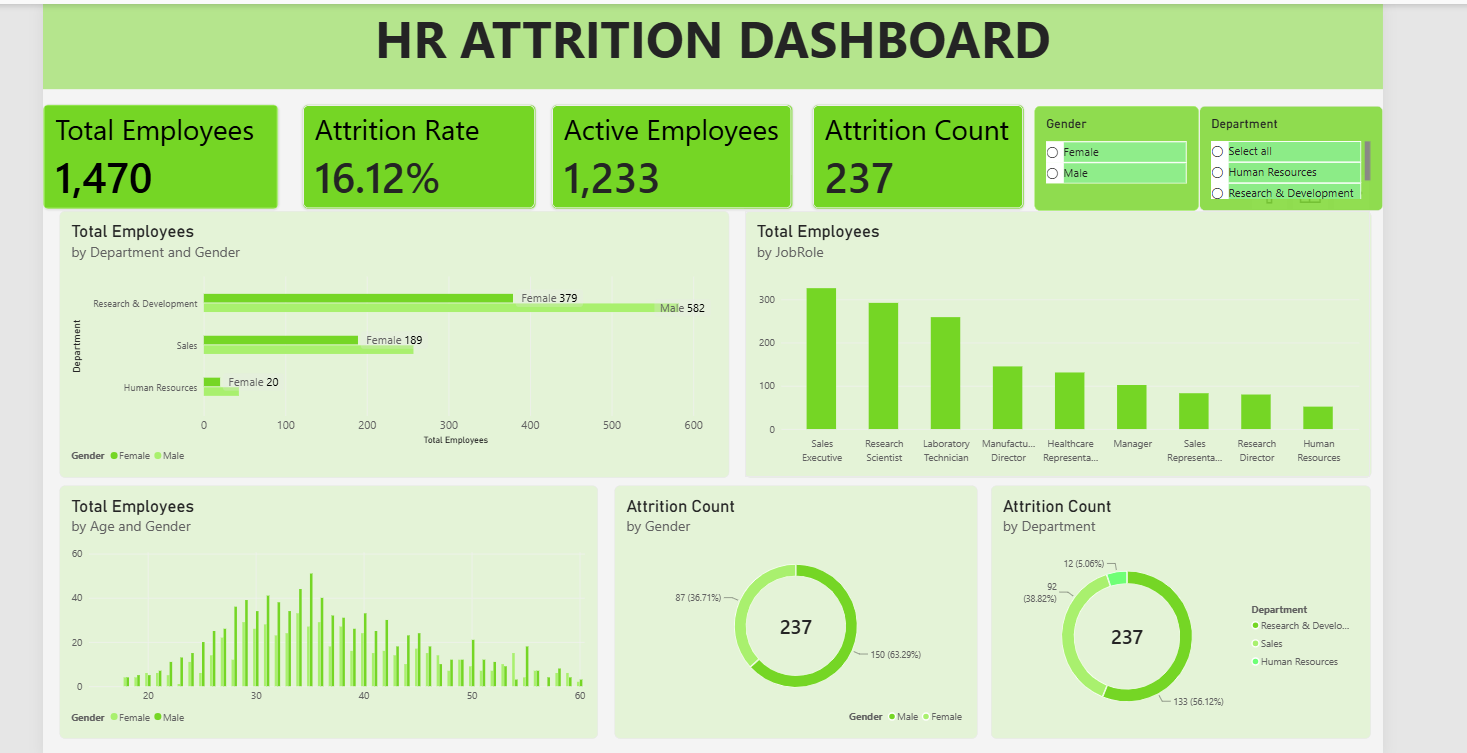

The dashboard page shown, as its layout file describes it:
{"tool":"powerbi","page":{"name":"Page 1","canvas":[1920,1080],"ordinal":0},"visuals":[{"type":"cardVisual","fields":{"Data":["WA_Fn-UseC_-HR-Employee-Attrition.Attrition Count"]},"box":[1102.7,144.6,303.3,150.2],"z":0},{"type":"cardVisual","fields":{"Data":["WA_Fn-UseC_-HR-Employee-Attrition.Attrition Rate"]},"box":[371.3,144.6,334.5,150.2],"z":1000},{"type":"cardVisual","fields":{"Data":["WA_Fn-UseC_-HR-Employee-Attrition.Active Employees"]},"box":[728.5,144.6,345.8,150.2],"z":2000},{"type":"cardVisual","fields":{"Data":["WA_Fn-UseC_-HR-Employee-Attrition.Total Employees"]},"box":[0,143.2,337.3,150.2],"z":3000},{"type":"textbox","box":[0,375.5,371,181],"z":4000},{"type":"textbox","box":[0,0,1919.1,121.9],"z":5000},{"type":"clusteredBarChart","fields":{"Category":["WA_Fn-UseC_-HR-Employee-Attrition.Department"],"Series":["WA_Fn-UseC_-HR-Employee-Attrition.Gender"],"Y":["WA_Fn-UseC_-HR-Employee-Attrition.Total Employees"]},"box":[23.9,295.9,959.1,381.7],"z":6000},{"type":"columnChart","fields":{"Category":["WA_Fn-UseC_-HR-Employee-Attrition.JobRole"],"Y":["WA_Fn-UseC_-HR-Employee-Attrition.Total Employees"]},"box":[1004.5,295.9,897.1,381.7],"z":7000},{"type":"clusteredColumnChart","fields":{"Category":["WA_Fn-UseC_-HR-Employee-Attrition.Age"],"Series":["WA_Fn-UseC_-HR-Employee-Attrition.Gender"],"Y":["WA_Fn-UseC_-HR-Employee-Attrition.Total Employees"]},"box":[22.7,688.8,771,362.8],"z":8000},{"type":"donutChart","fields":{"Category":["WA_Fn-UseC_-HR-Employee-Attrition.Gender"],"Y":["WA_Fn-UseC_-HR-Employee-Attrition.Attrition Count"]},"box":[818.4,689.5,520.1,362.7],"z":9000},{"type":"donutChart","fields":{"Category":["WA_Fn-UseC_-HR-Employee-Attrition.Department"],"Y":["WA_Fn-UseC_-HR-Employee-Attrition.Attrition Count"]},"box":[1357.8,688.8,544.3,362.8],"z":10000},{"type":"listSlicer","fields":{"Values":["WA_Fn-UseC_-HR-Employee-Attrition.Gender"]},"box":[1419.6,145.5,235.3,150.2],"z":10001},{"type":"listSlicer","fields":{"Values":["WA_Fn-UseC_-HR-Employee-Attrition.Department"]},"box":[1655.8,145.5,262.5,150.3],"z":10002}]}

Visuals, with their boxes on the page's 1920x1080 design canvas (x1, y1, x2, y2). These are canvas units, not pixel positions in the 1467x753 screenshot, which may show the page scaled, cropped or inside an application window:
cardVisual - WA_Fn-UseC_-HR-Employee-Attrition.Attrition Count: 1103, 145, 1406, 295
cardVisual - WA_Fn-UseC_-HR-Employee-Attrition.Attrition Rate: 371, 145, 706, 295
cardVisual - WA_Fn-UseC_-HR-Employee-Attrition.Active Employees: 728, 145, 1074, 295
cardVisual - WA_Fn-UseC_-HR-Employee-Attrition.Total Employees: 0, 143, 337, 293
textbox: 0, 376, 371, 556
textbox: 0, 0, 1919, 122
clusteredBarChart - WA_Fn-UseC_-HR-Employee-Attrition.Department x WA_Fn-UseC_-HR-Employee-Attrition.Gender: 24, 296, 983, 678
columnChart - WA_Fn-UseC_-HR-Employee-Attrition.JobRole x WA_Fn-UseC_-HR-Employee-Attrition.Total Employees: 1004, 296, 1902, 678
clusteredColumnChart - WA_Fn-UseC_-HR-Employee-Attrition.Age x WA_Fn-UseC_-HR-Employee-Attrition.Gender: 23, 689, 794, 1052
donutChart - WA_Fn-UseC_-HR-Employee-Attrition.Gender x WA_Fn-UseC_-HR-Employee-Attrition.Attrition Count: 818, 690, 1338, 1052
donutChart - WA_Fn-UseC_-HR-Employee-Attrition.Department x WA_Fn-UseC_-HR-Employee-Attrition.Attrition Count: 1358, 689, 1902, 1052
listSlicer - WA_Fn-UseC_-HR-Employee-Attrition.Gender: 1420, 146, 1655, 296
listSlicer - WA_Fn-UseC_-HR-Employee-Attrition.Department: 1656, 146, 1918, 296
